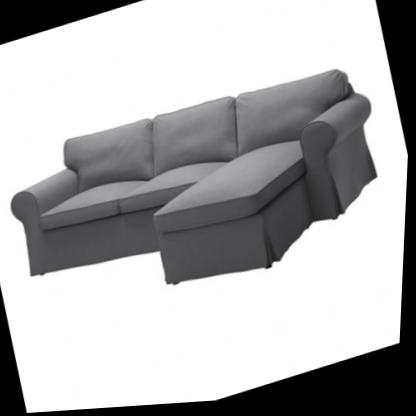Sofa: (0, 47, 408, 345)
